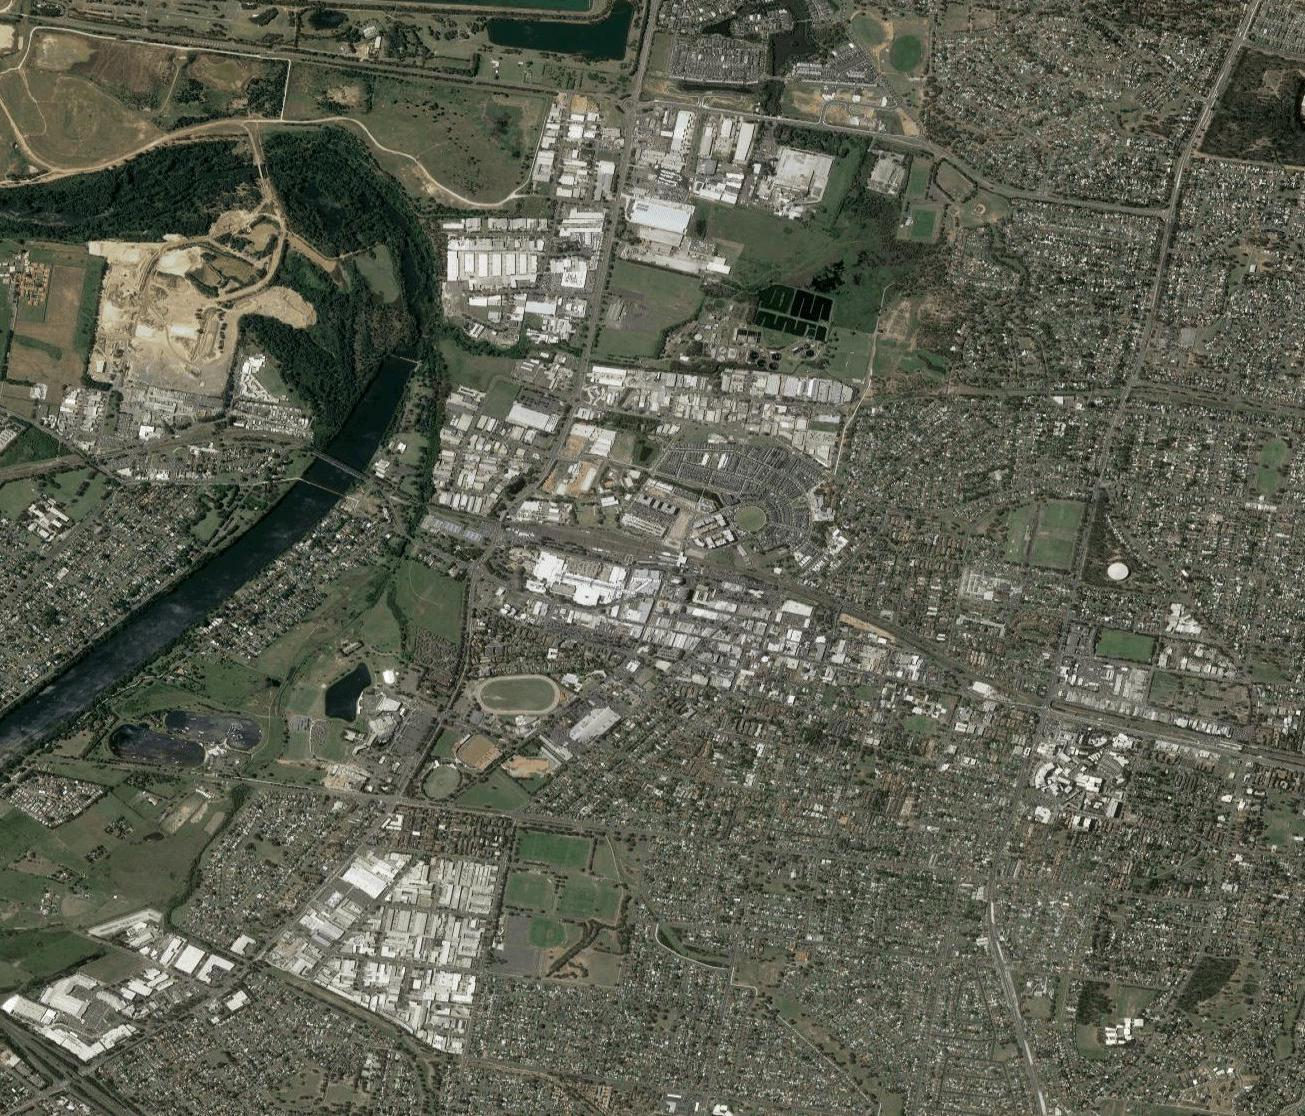bridge: (312, 448, 366, 480), (383, 348, 420, 368)
industrial: (543, 92, 773, 288), (290, 846, 485, 1040), (1, 917, 206, 1064), (432, 195, 599, 354), (593, 360, 851, 459), (532, 551, 737, 676), (421, 387, 593, 512)
train_station: (645, 544, 690, 571)
